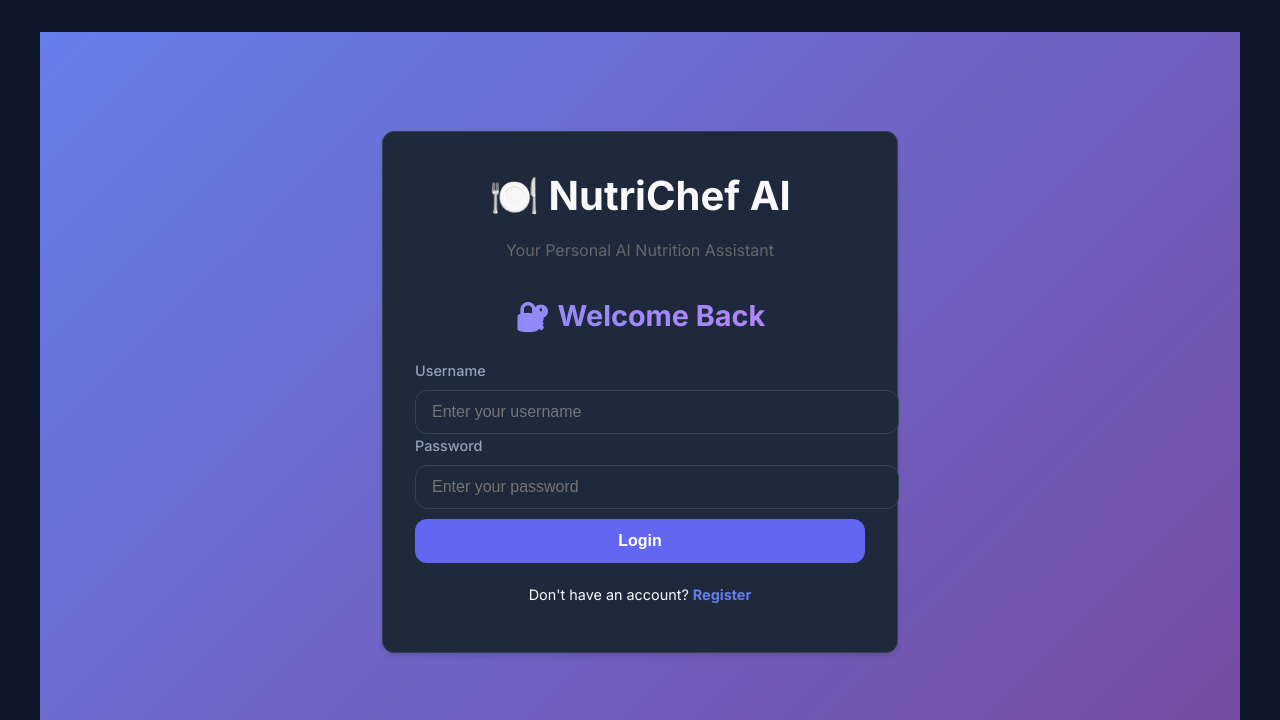
Test case: LoginComponent › displays error message on failed login
Type "testuser" into the field with placeholder "Enter your username" at (657, 412), box [415, 390, 899, 434]
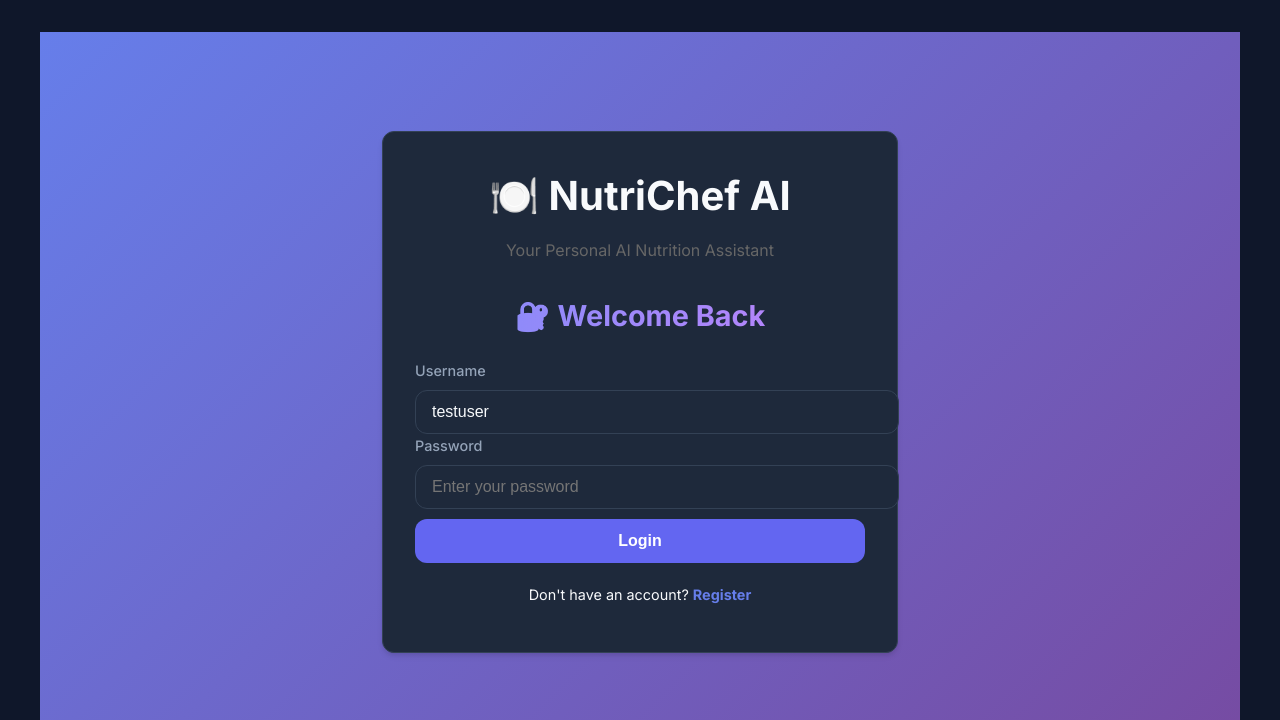
Type "password123" into the password field with placeholder "Enter your password" at (657, 487), box [415, 465, 899, 509]
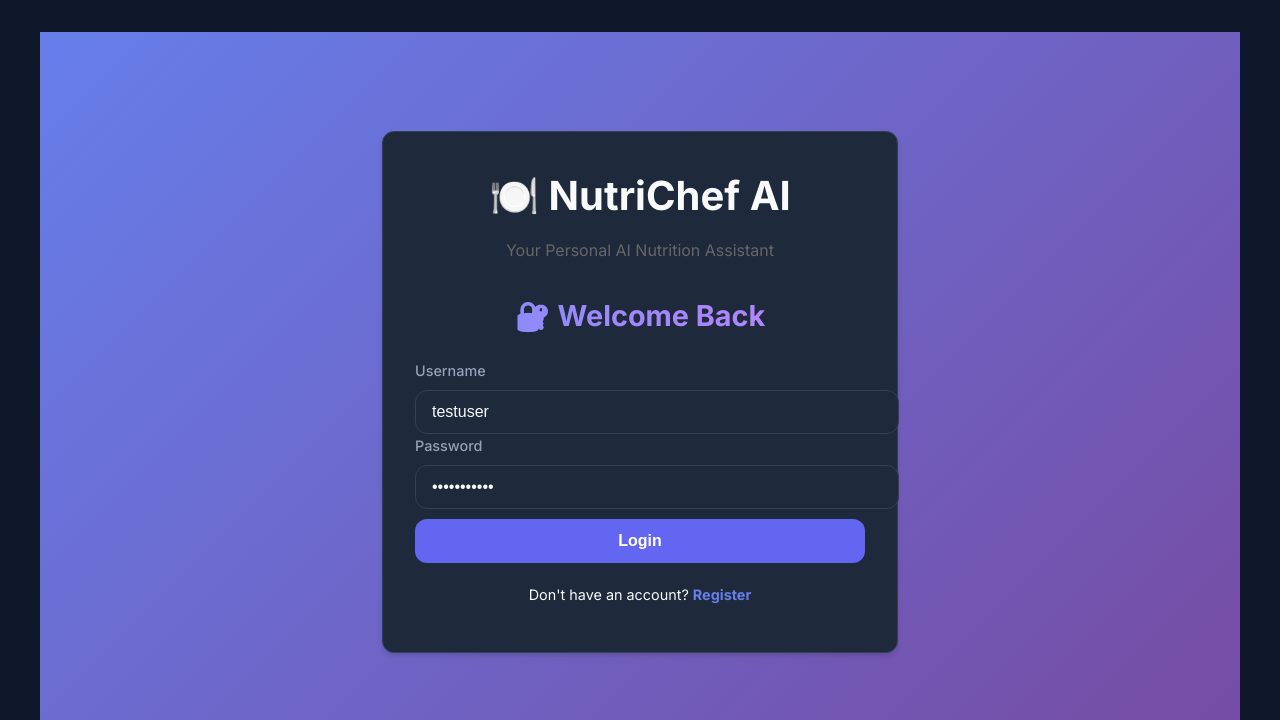
Click the button "Login" at (640, 541), box [415, 519, 865, 563]
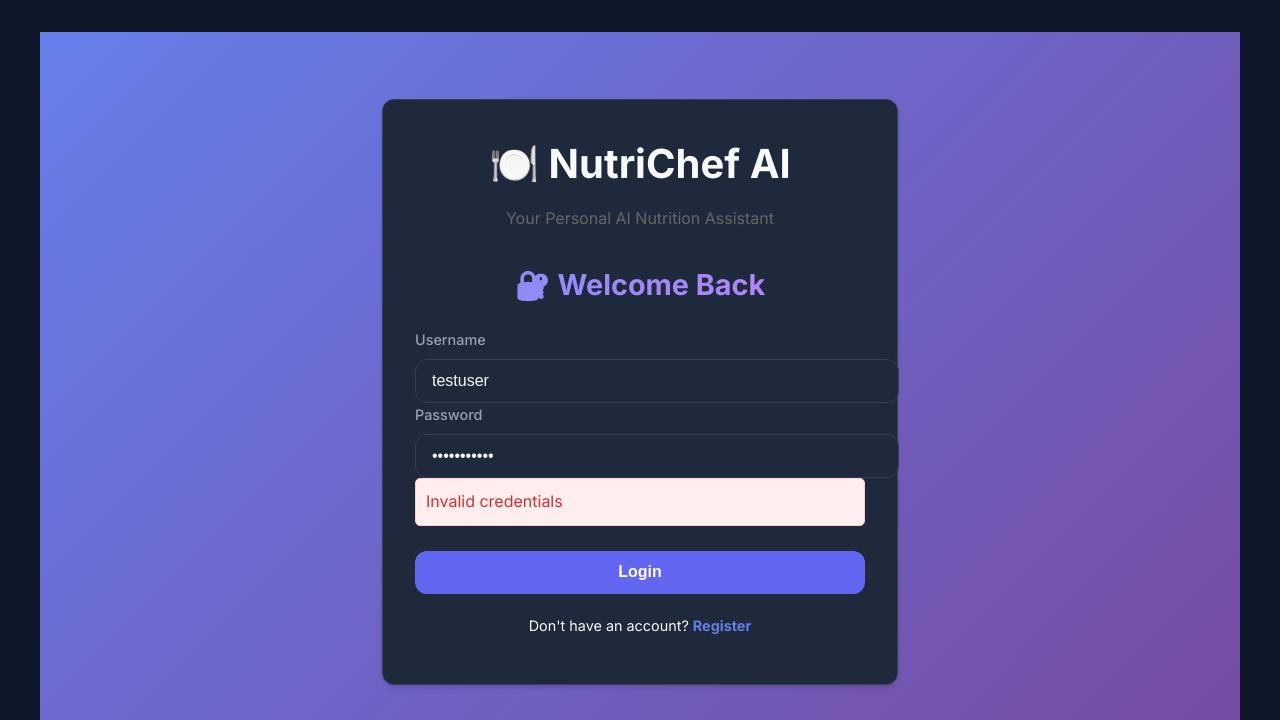
Expected: the text "Invalid credentials" is shown, [415, 478, 865, 526]
